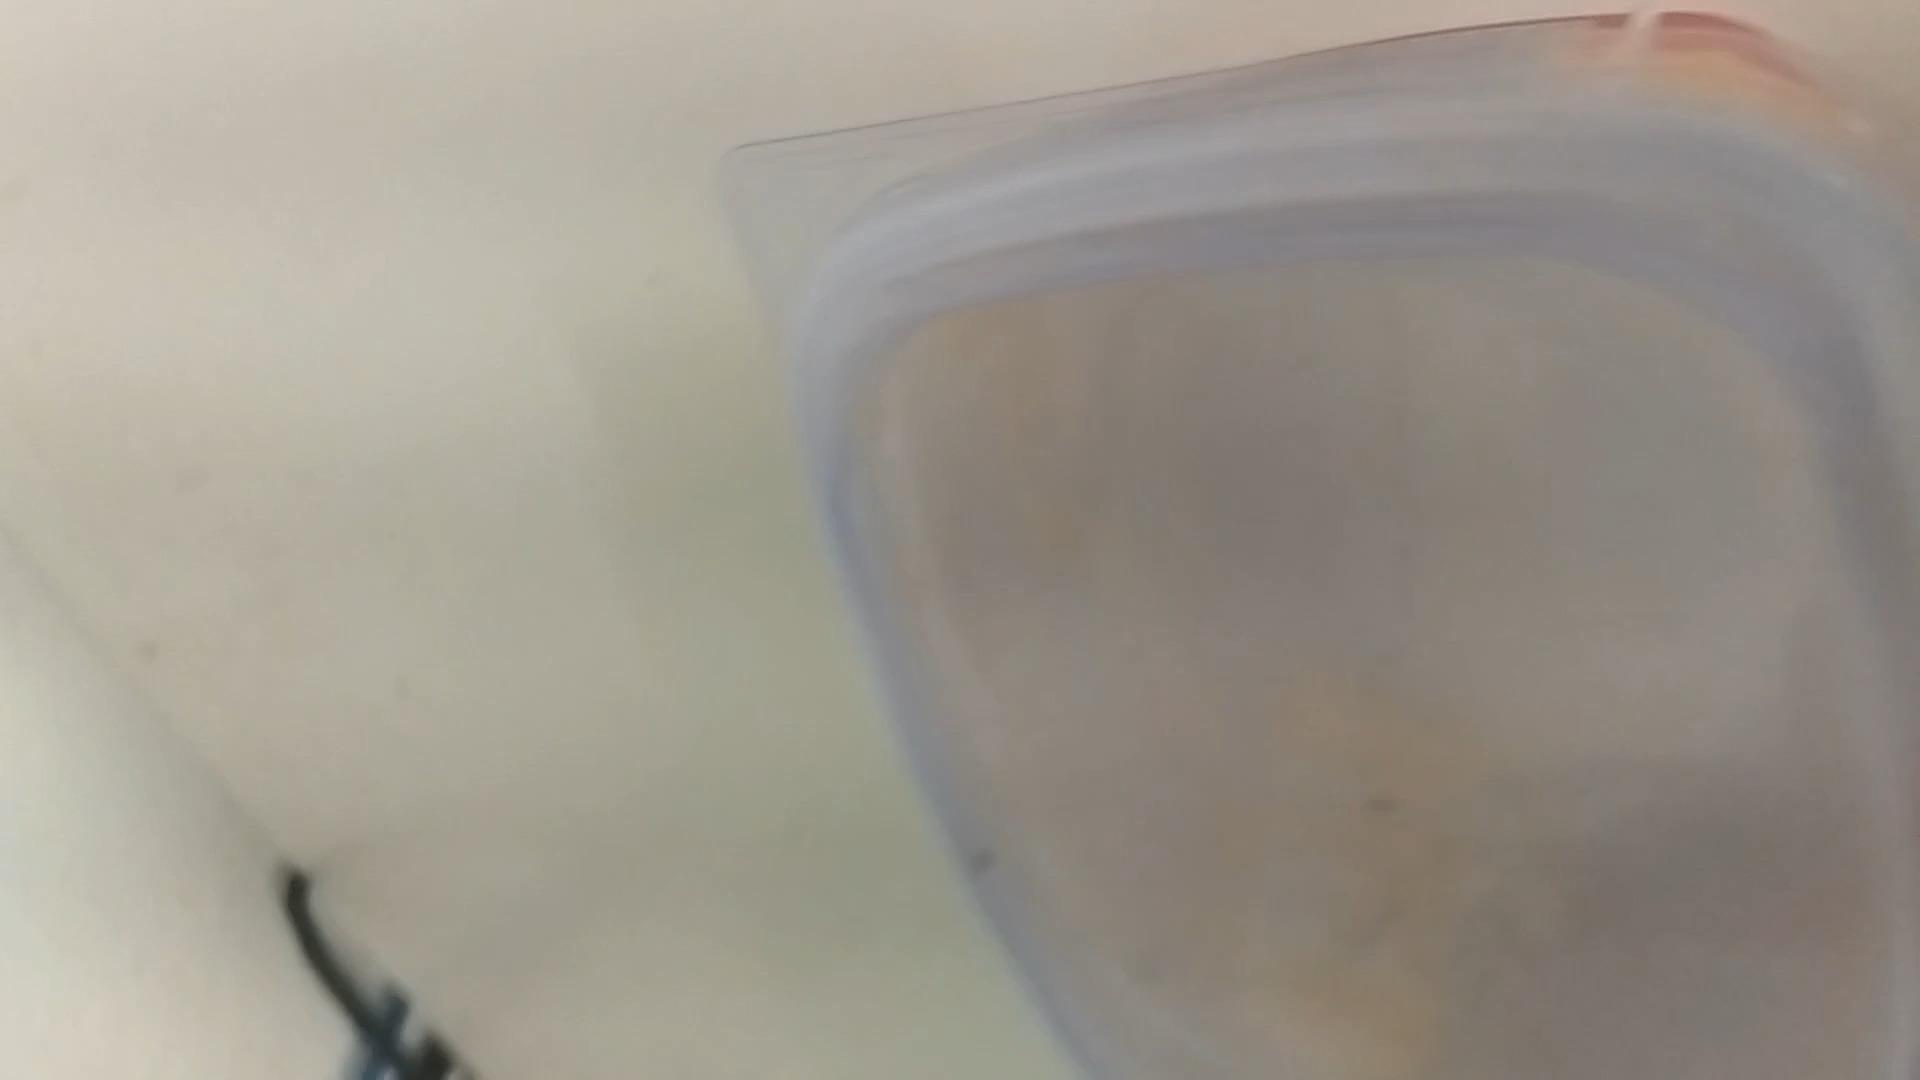butter: (670, 8, 1920, 1080)
